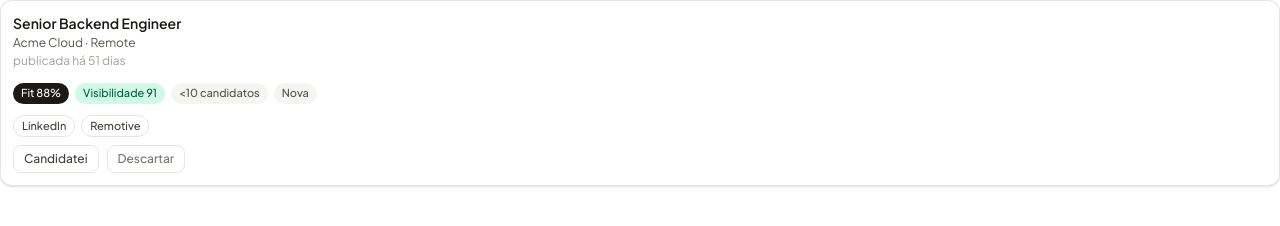
Test: ListingCard › reports a failed status change instead of silently keeping the old one
The width and height of the screenshot is (1280, 226).
Click the button "Candidatei" at (56, 159), box x1=13 y1=145 x2=99 y2=173
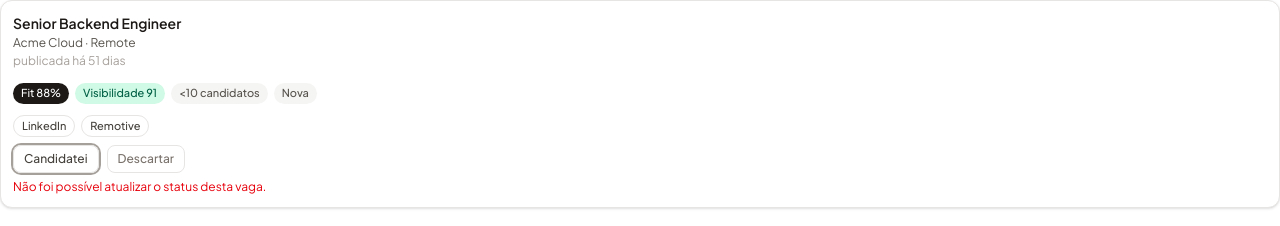
expect the message reads "Não foi possível atualizar o status desta vaga.": met, box x1=13 y1=179 x2=266 y2=194
